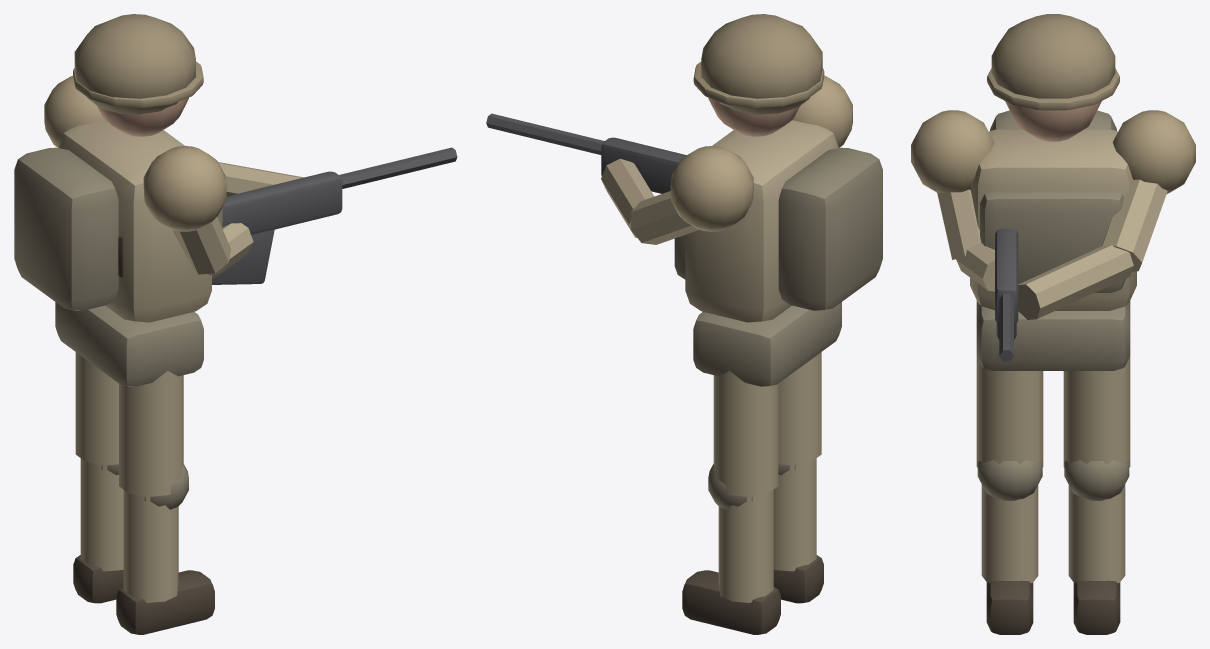
File: soldier.glb
The picture shows the model from 3 angles, left to right: view 1: azimuth 30°, elevation 25°; view 2: azimuth 150°, elevation 25°; view 3: azimuth 270°, elevation 25°; orthographic projection.
Parts seen in each view (by area): view 1: torso, shin_R, leg_R, shin_L, leg_L; view 2: torso, shin_L, leg_L, shin_R, leg_R; view 3: torso, leg_L, leg_R, shin_L, shin_R.
Boxes of the visible parts, left/top/right/bottom form: torso: left=14, top=14, right=457, bottom=386; shin_R: left=116, top=490, right=214, bottom=634; leg_R: left=119, top=371, right=188, bottom=509; shin_L: left=73, top=458, right=123, bottom=603; leg_L: left=75, top=352, right=118, bottom=474; torso: left=486, top=14, right=882, bottom=386; shin_L: left=682, top=490, right=780, bottom=634; leg_L: left=708, top=371, right=778, bottom=509; shin_R: left=773, top=458, right=823, bottom=603; leg_R: left=778, top=352, right=821, bottom=474; torso: left=911, top=14, right=1195, bottom=370; leg_L: left=1063, top=356, right=1130, bottom=500; leg_R: left=976, top=356, right=1043, bottom=500; shin_L: left=1068, top=484, right=1125, bottom=634; shin_R: left=981, top=484, right=1038, bottom=634.
Size of the model in its own units: 1.37 by 1.96 by 0.8535.
